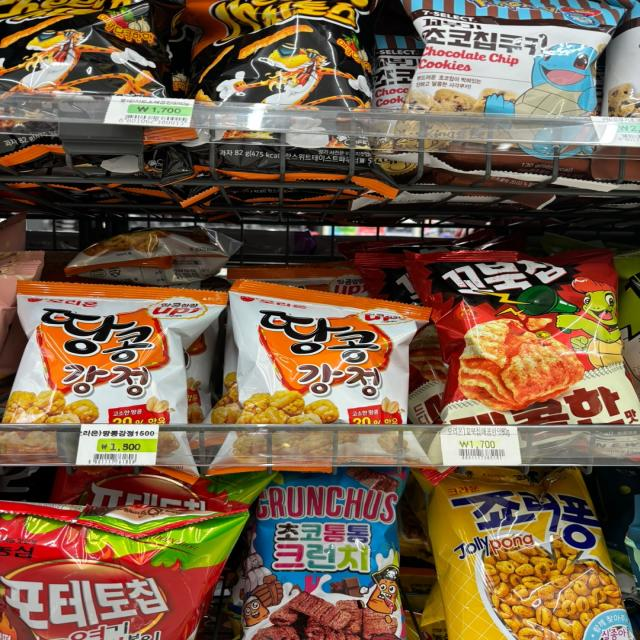product: (436, 257, 632, 425), (8, 281, 210, 419), (442, 478, 614, 640), (235, 283, 418, 426)
